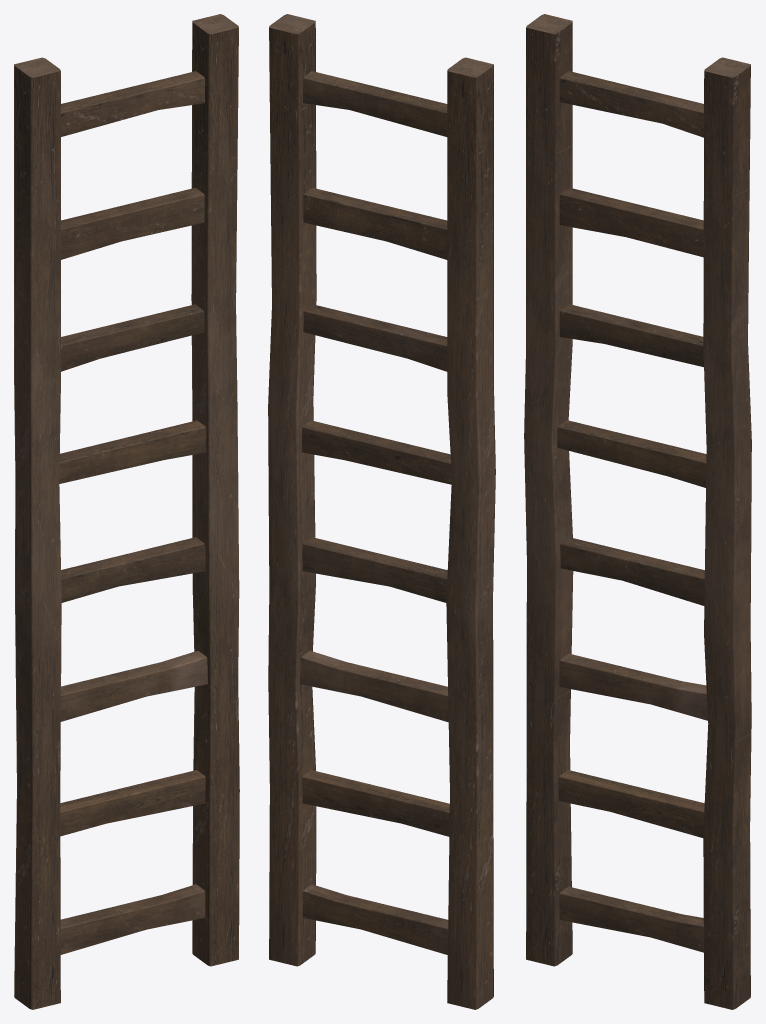
File: SM_Ladder_01.fbx
3 renders of one model, left to right at view 1: azimuth 30°, elevation 25°; view 2: azimuth 150°, elevation 25°; view 3: azimuth 330°, elevation 25°, orthographic.
Visible parts, largest first — view 1: SM_Ladder_01_LOD0; view 2: SM_Ladder_01_LOD0; view 3: SM_Ladder_01_LOD0.
Part boxes in pixels (x1,y1,x2,y2): SM_Ladder_01_LOD0: (14, 14, 239, 1009); SM_Ladder_01_LOD0: (268, 14, 495, 1009); SM_Ladder_01_LOD0: (524, 14, 751, 1009).
Size of what is drawn, in the model's own units: 47.21 by 200 by 7.99.
